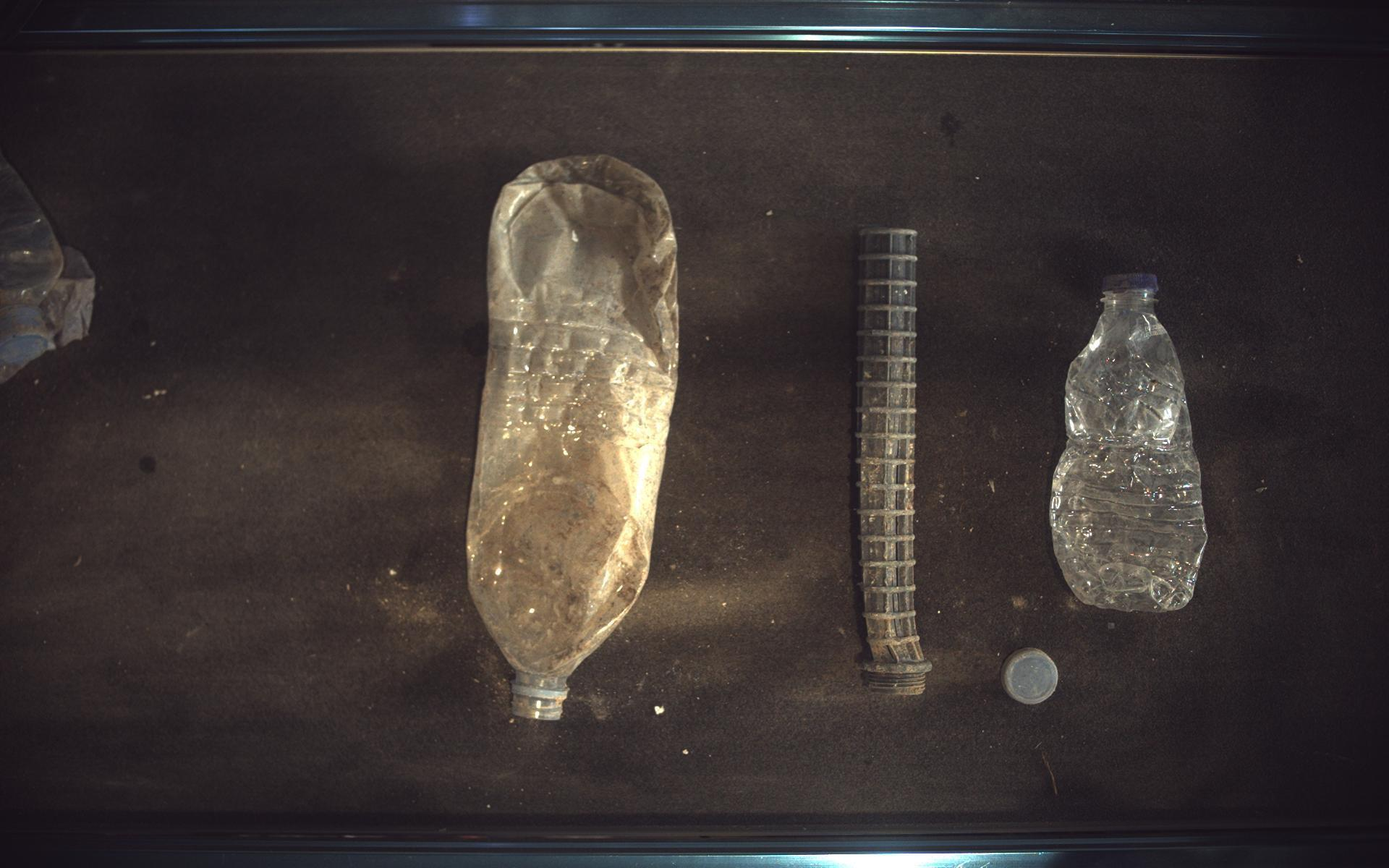general_w: (467, 155, 678, 722), (1052, 273, 1210, 612), (1, 154, 94, 383), (1005, 649, 1061, 705)
plastic: (857, 227, 933, 697)
